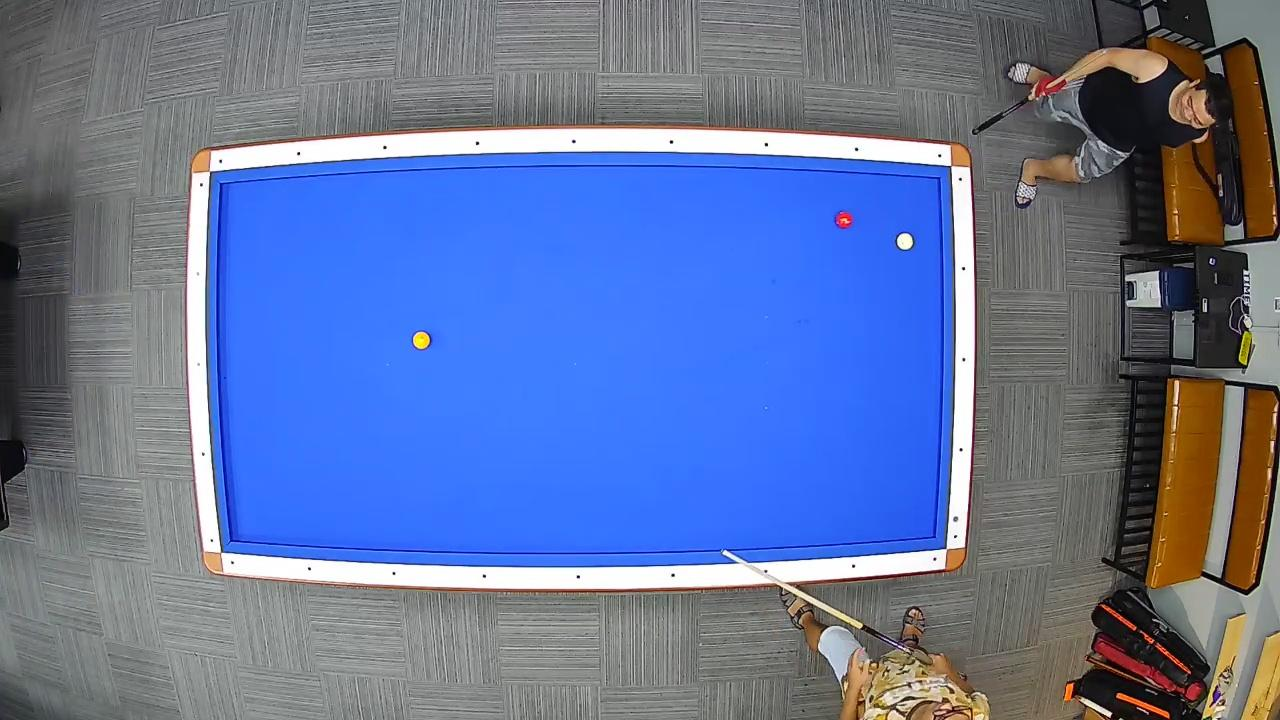Red: (834, 209, 855, 231)
White: (896, 231, 916, 251)
Yellow: (411, 330, 432, 351)
